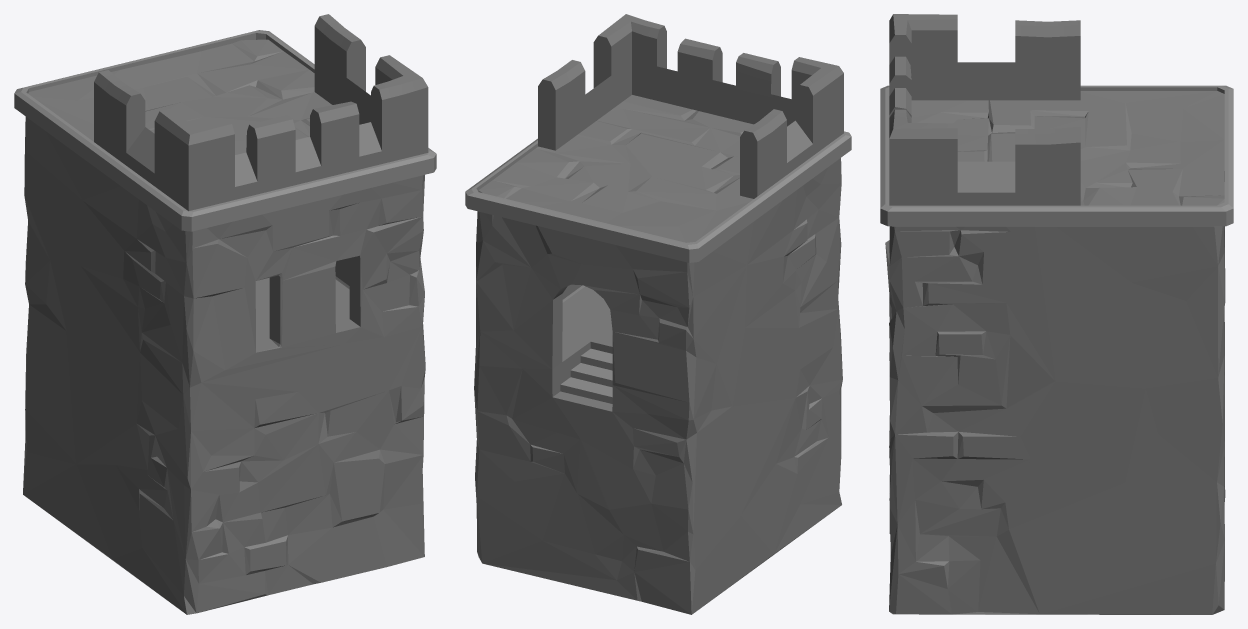
Rendered from castle_battlement_corner_a3.FBX.
The picture shows the model from 3 angles, left to right: view 1: azimuth 30°, elevation 25°; view 2: azimuth 150°, elevation 25°; view 3: azimuth 270°, elevation 25°; orthographic projection. The views are drawn at different scales.
Visible parts, largest first — view 1: castle_battlement_corner_a3; view 2: castle_battlement_corner_a3; view 3: castle_battlement_corner_a3.
Part boxes in pixels (x1=…): castle_battlement_corner_a3: x1=14, y1=14, x2=436, y2=614; castle_battlement_corner_a3: x1=465, y1=14, x2=851, y2=614; castle_battlement_corner_a3: x1=880, y1=14, x2=1233, y2=614.
Bounding box in the file's own units: 5.32 × 9.55 × 6.31.
